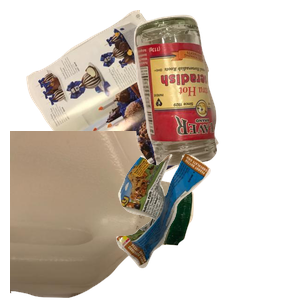glass: (131, 12, 300, 170)
paper: (24, 10, 235, 190)
plastic: (10, 131, 196, 300)
trash: (114, 151, 300, 300)
